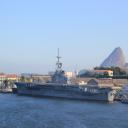Portanaves: (11, 46, 124, 104)
